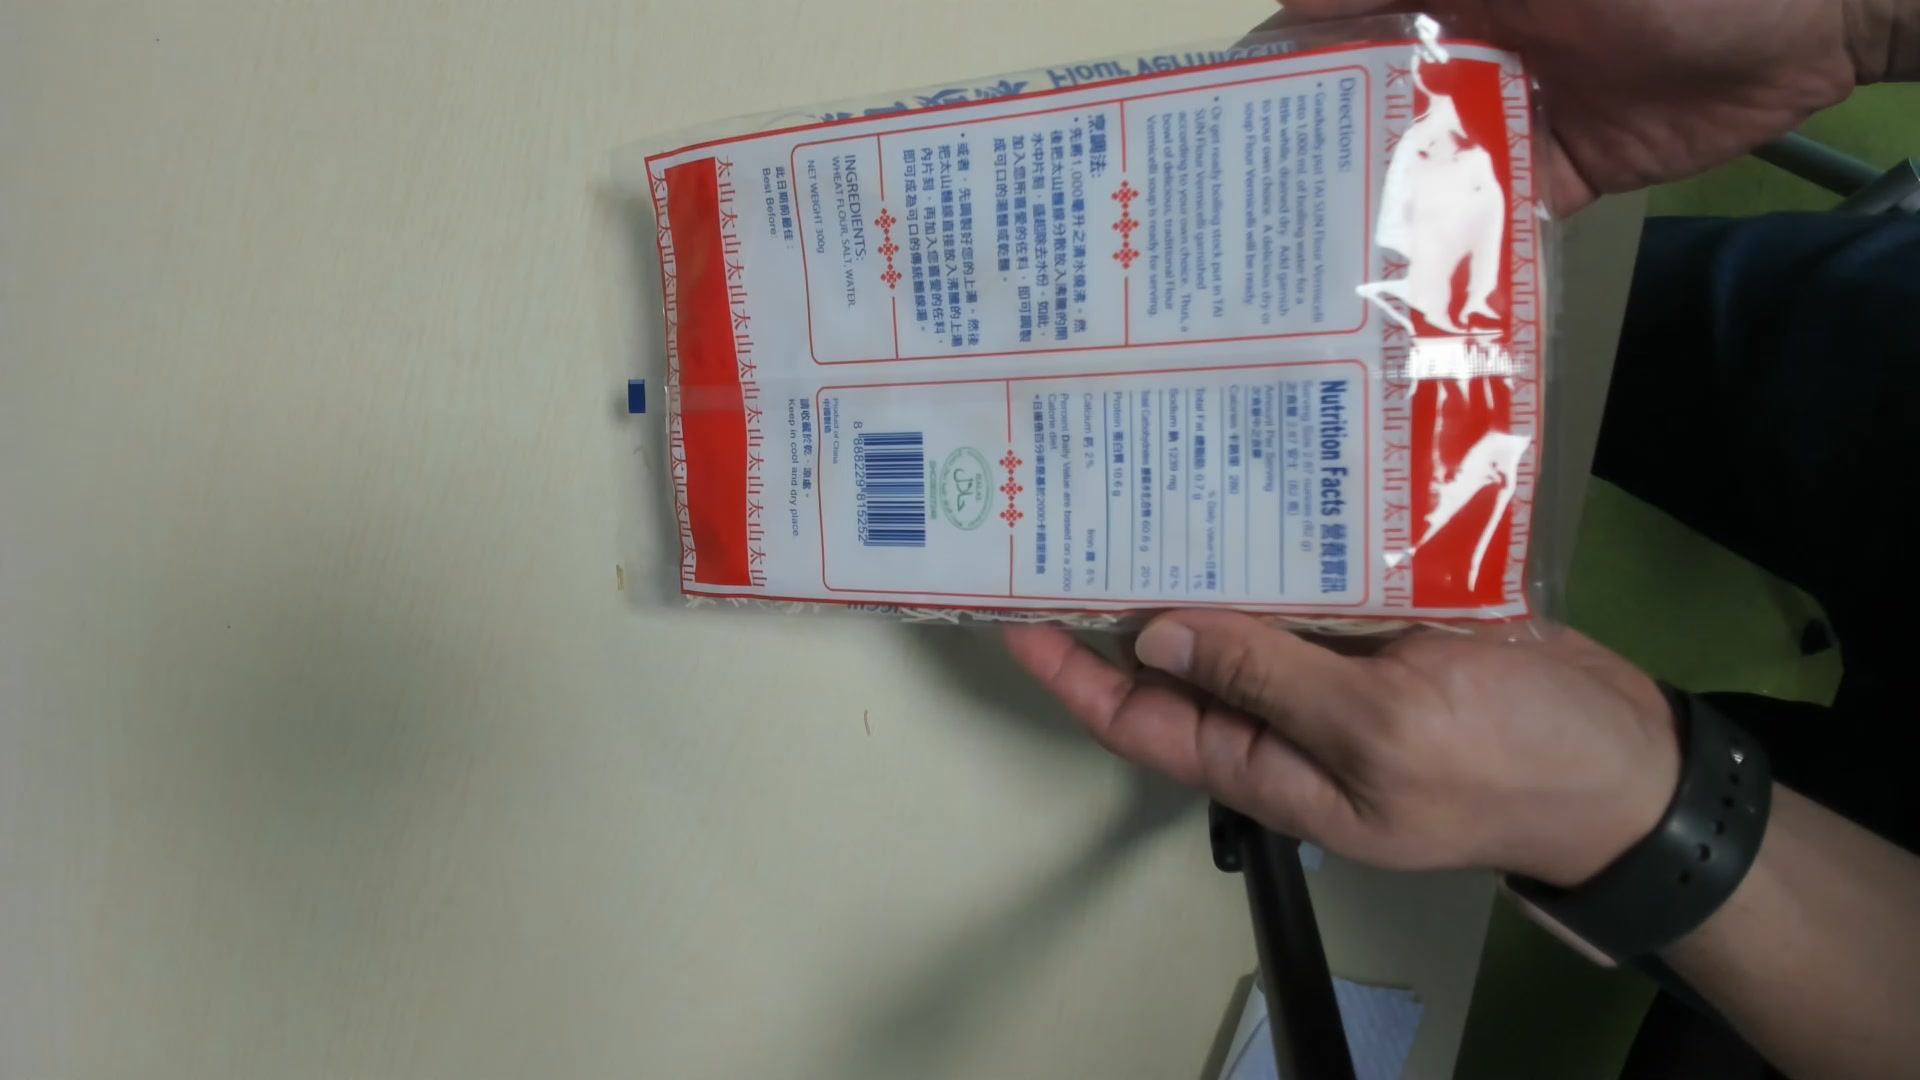BeeHoonVermicelli_300-399g_Halal_NonHealthy: (630, 42, 1548, 629)
